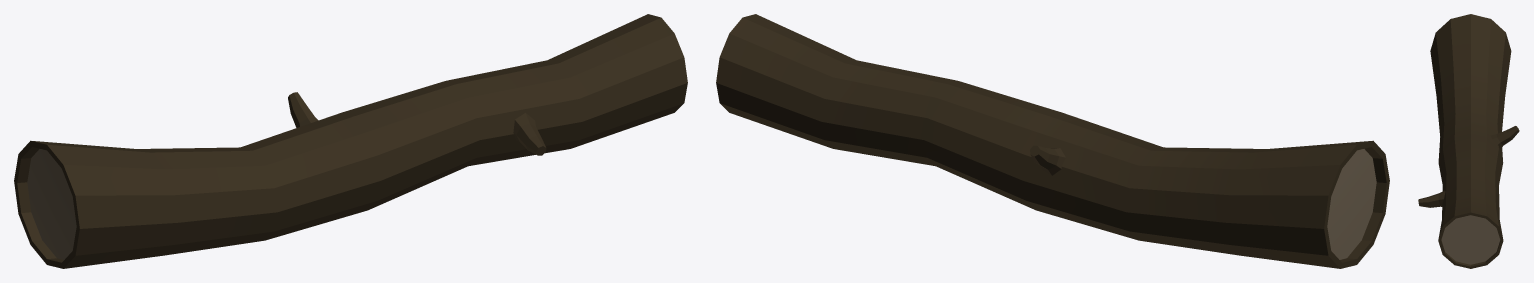
The model's file is LogNoJags.fbx.
The picture shows the model from 3 angles, left to right: view 1: azimuth 30°, elevation 25°; view 2: azimuth 150°, elevation 25°; view 3: azimuth 270°, elevation 25°; orthographic projection. The views are drawn at different scales.
Parts seen in each view (by area): view 1: pCylinder6; view 2: pCylinder6; view 3: pCylinder6.
Part boxes in pixels (x1,y1,x2,y2): pCylinder6: (14, 14, 687, 268); pCylinder6: (716, 14, 1389, 268); pCylinder6: (1418, 14, 1519, 268).
Size of the model in its own units: 17.67 by 3.92 by 4.1.
